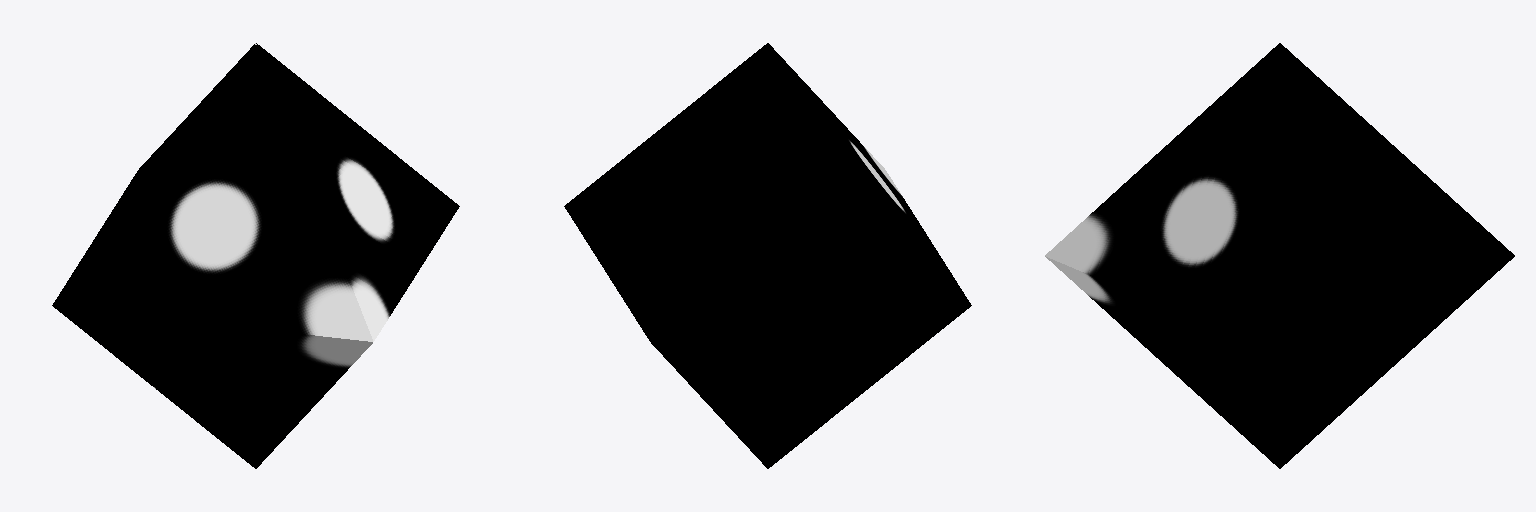
The picture shows the model from 3 angles: view 1: azimuth 30°, elevation 25°; view 2: azimuth 150°, elevation 25°; view 3: azimuth 270°, elevation 25°; orthographic projection.
Parts seen in each view (by area): view 1: 立方体; view 2: 立方体; view 3: 立方体.
Part boxes in pixels (x1,y1,x2,y2): 立方体: (52, 43, 459, 468); 立方体: (564, 43, 971, 468); 立方体: (1045, 43, 1514, 468).
Bounding box in the file's own units: 2.26 × 2.26 × 2.26.
Materials: 1 (1 with a texture image).